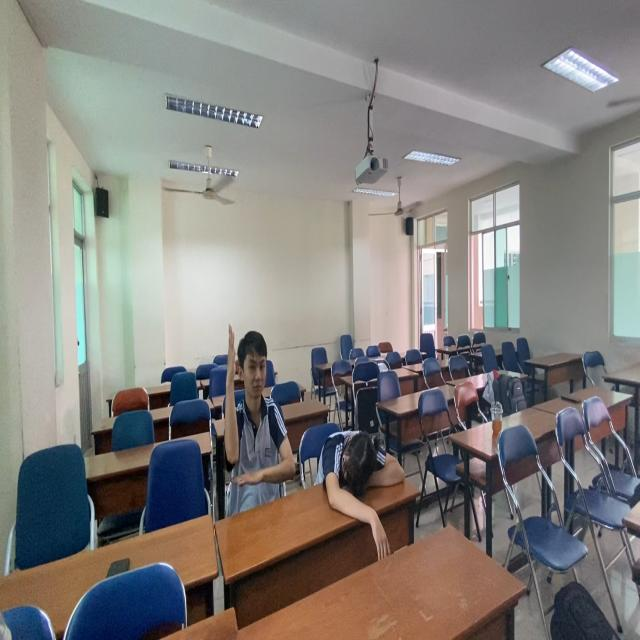raise_hand: (221, 318, 300, 511)
sleep: (310, 423, 409, 509)
